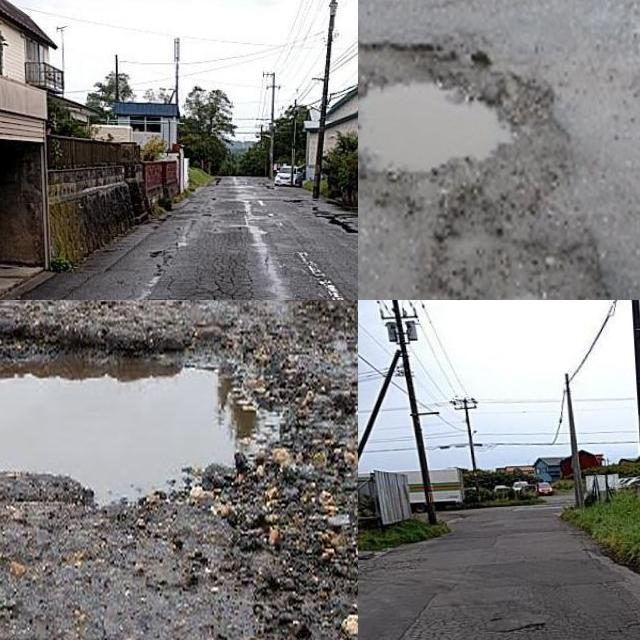Lubang: (0, 325, 294, 502), (358, 46, 576, 180), (445, 194, 605, 300)
